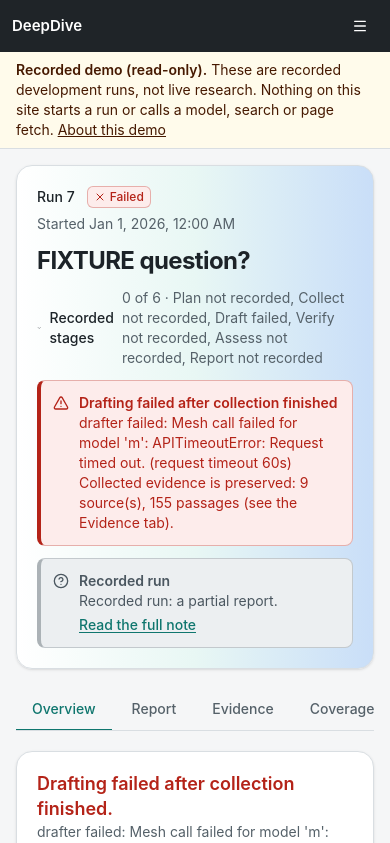
Test: read-only demo › the recorded-run note can be expanded on narrow screens and is always in the page
Expected: the text "Recorded run: a partial report." is shown, [79, 591, 278, 611]
Click the button "Read the full note": (138, 625) [79, 615, 196, 635]
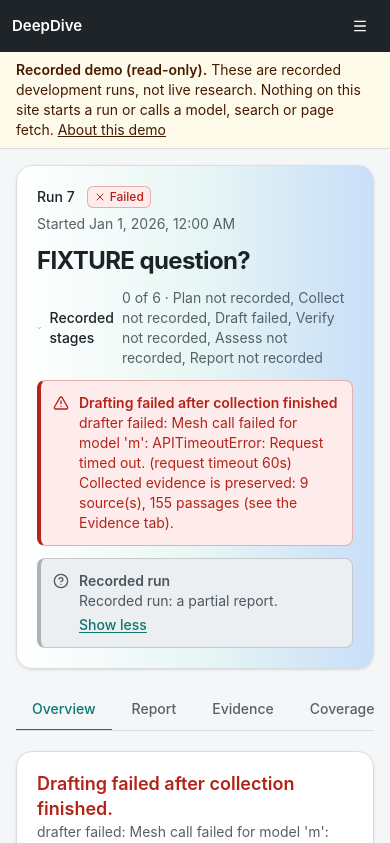
Now the button "Show less" is expanded, box [79, 615, 147, 635]
